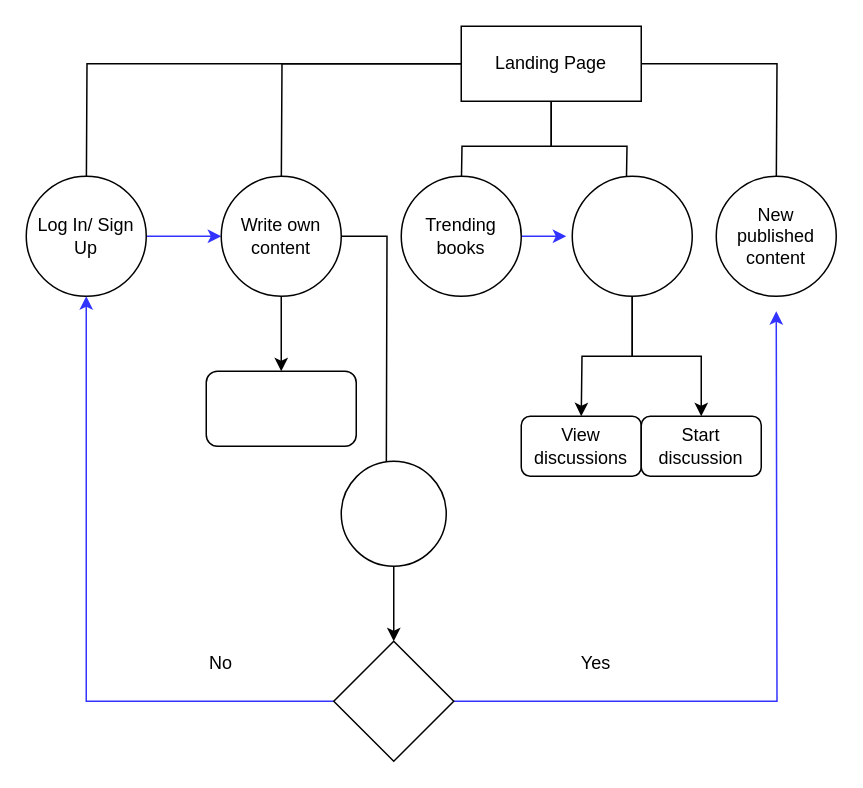
The diagram is 863 pixels wide and 788 high, and some of its shapes have lost their labels. Here are the shapes that lost their labels. From the top down, the centre of each, then its label:
point 631,235: Discuss
point 280,408: AI Assistant
point 393,513: Publish/Save
point 393,700: Member?
